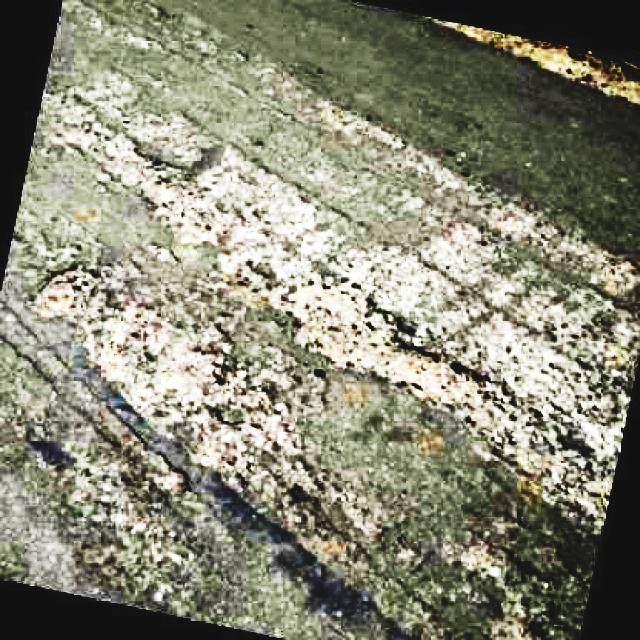pothole: (252, 259, 611, 526), (34, 254, 292, 488)
